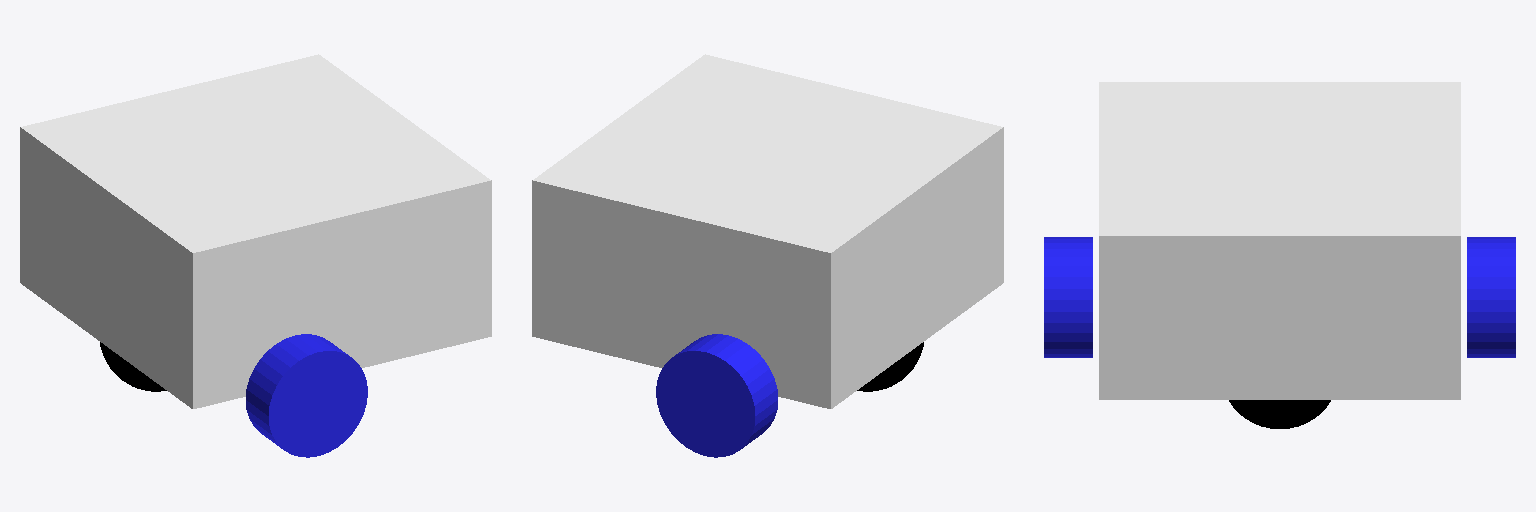
URDF robot description (robot):
<?xml version="1.0" ?>
<!-- =================================================================================== -->
<!-- |    This document was autogenerated by xacro from robot.urdf.xacro               | -->
<!-- |    EDITING THIS FILE BY HAND IS NOT RECOMMENDED                                 | -->
<!-- =================================================================================== -->
<robot name="robot">
  <material name="white">
    <color rgba="1 1 1 1"/>
  </material>
  <material name="orange">
    <color rgba="1 0.3 0.1 1"/>
  </material>
  <material name="blue">
    <color rgba="0.2 0.2 1 1"/>
  </material>
  <material name="black">
    <color rgba="0 0 0 1"/>
  </material>
  <!-- BASE LINK -->
  <link name="base_link"/>
  <!-- CHASSIS LINK -->
  <joint name="chassis_joint" type="fixed">
    <parent link="base_link"/>
    <child link="chassis"/>
    <origin xyz="-0.1 0 0"/>
  </joint>
  <link name="chassis">
    <visual>
      <origin xyz="0.15 0 0.075"/>
      <geometry>
        <box size="0.3 0.3 0.15"/>
      </geometry>
      <material name="white"/>
    </visual>
    <collision>
      <origin xyz="0.15 0 0.075"/>
      <geometry>
        <box size="0.3 0.3 0.15"/>
      </geometry>
    </collision>
    <inertial>
      <origin rpy="0 0 0" xyz="0.15 0 0.075"/>
      <mass value="0.5"/>
      <inertia ixx="0.004687499999999999" ixy="0.0" ixz="0.0" iyy="0.004687499999999999" iyz="0.0" izz="0.0075"/>
    </inertial>
  </link>
  <gazebo reference="chassis">
    <material>Gazebo/White</material>
  </gazebo>
  <!-- LEFT WHEEL LINK -->
  <joint name="left_wheel_joint" type="continuous">
    <parent link="base_link"/>
    <child link="left_wheel"/>
    <origin rpy="-1.5707963267948966 0 0" xyz="0 0.175 0"/>
    <axis xyz="0 0 1"/>
  </joint>
  <link name="left_wheel">
    <visual>
      <geometry>
        <cylinder length="0.04" radius="0.05"/>
      </geometry>
      <material name="blue"/>
    </visual>
    <collision>
      <geometry>
        <cylinder length="0.04" radius="0.05"/>
      </geometry>
    </collision>
    <inertial>
      <origin rpy="0 0 0" xyz="0 0 0"/>
      <mass value="0.1"/>
      <inertia ixx="7.583333333333335e-05" ixy="0.0" ixz="0.0" iyy="7.583333333333335e-05" iyz="0.0" izz="0.00012500000000000003"/>
    </inertial>
  </link>
  <gazebo reference="left_wheel">
    <material>Gazebo/Blue</material>
  </gazebo>
  <!-- RIGHT WHEEL LINK -->
  <joint name="right_wheel_joint" type="continuous">
    <parent link="base_link"/>
    <child link="right_wheel"/>
    <origin rpy="1.5707963267948966 0 0" xyz="0 -0.175 0"/>
    <axis xyz="0 0 -1"/>
  </joint>
  <link name="right_wheel">
    <visual>
      <geometry>
        <cylinder length="0.04" radius="0.05"/>
      </geometry>
      <material name="blue"/>
    </visual>
    <collision>
      <geometry>
        <cylinder length="0.04" radius="0.05"/>
      </geometry>
    </collision>
    <inertial>
      <origin rpy="0 0 0" xyz="0 0 0"/>
      <mass value="0.1"/>
      <inertia ixx="7.583333333333335e-05" ixy="0.0" ixz="0.0" iyy="7.583333333333335e-05" iyz="0.0" izz="0.00012500000000000003"/>
    </inertial>
  </link>
  <gazebo reference="right_wheel">
    <material>Gazebo/Blue</material>
  </gazebo>
  <!-- CASTER WHEEL FRONT -->
  <joint name="caster_wheel_joint" type="fixed">
    <parent link="chassis"/>
    <child link="caster_wheel"/>
    <origin xyz="0.24 0 0"/>
  </joint>
  <link name="caster_wheel">
    <visual>
      <geometry>
        <sphere radius="0.05"/>
      </geometry>
      <material name="black"/>
    </visual>
    <collision>
      <geometry>
        <sphere radius="0.05"/>
      </geometry>
    </collision>
    <inertial>
      <origin rpy="0 0 0" xyz="0 0 0"/>
      <mass value="0.1"/>
      <inertia ixx="0.00010000000000000005" ixy="0.0" ixz="0.0" iyy="0.00010000000000000005" iyz="0.0" izz="0.00010000000000000005"/>
    </inertial>
  </link>
  <gazebo reference="caster_wheel">
    <material>Gazebo/Black</material>
    <mu1 value="0.001"/>
    <mu2 value="0.001"/>
  </gazebo>
  <!-- CASTER WHEEL BACK -->
  <joint name="back_caster_wheel_joint" type="fixed">
    <parent link="chassis"/>
    <child link="back_caster_wheel"/>
    <origin xyz="0.05 0 0"/>
  </joint>
  <link name="back_caster_wheel">
    <visual>
      <geometry>
        <sphere radius="0.05"/>
      </geometry>
      <material name="black"/>
    </visual>
    <collision>
      <geometry>
        <sphere radius="0.05"/>
      </geometry>
    </collision>
    <inertial>
      <origin rpy="0 0 0" xyz="0 0 0"/>
      <mass value="0.1"/>
      <inertia ixx="0.00010000000000000005" ixy="0.0" ixz="0.0" iyy="0.00010000000000000005" iyz="0.0" izz="0.00010000000000000005"/>
    </inertial>
  </link>
  <gazebo reference="back_caster_wheel">
    <material>Gazebo/Black</material>
    <mu1 value="0.001"/>
    <mu2 value="0.001"/>
  </gazebo>
  <!-- ARM BASE -->
  <joint name="arm_base_joint" type="continuous">
    <axis xyz="0 0 1"/>
    <parent link="base_link"/>
    <child link="arm_base"/>
    <origin rpy="0 0 0" xyz="0.0 0.0 0.18"/>
  </joint>
  <link name="arm_base">
    <inertial>
      <origin rpy="0 0 0" xyz="0 0 0"/>
      <mass value="1.6004"/>
      <inertia ixx="0.00552196561445819" ixy="7.9550614501301E-10" ixz="-1.34378458924839E-09" iyy="0.00352397447953875" iyz="-1.10071809773382E-08" izz="0.00553739792746489"/>
    </inertial>
    <visual>
      <origin rpy="0 0 0" xyz="0 0 0"/>
      <geometry>
        <mesh filename="file://[local-path]/Desktop/projects/SmartRobotics_Project/controller/install/robot/share/robot/description/meshes/arm_base.stl"/>
      </geometry>
      <material name="">
        <color rgba="0.79216 0.81961 0.93333 1"/>
      </material>
    </visual>
    <collision>
      <origin rpy="0 0 0" xyz="0 0 0"/>
      <geometry>
        <mesh filename="file://[local-path]/Desktop/projects/SmartRobotics_Project/controller/install/robot/share/robot/description/meshes/arm_base.stl"/>
      </geometry>
    </collision>
  </link>
  <!-- BICEP -->
  <!-- <joint name="shoulder_joint" type="continuous">
      <axis xyz="0 1 0"/>
      <parent link="arm_base"/>
      <child link="bicep"/>
      <origin rpy="0 0 1.5708" xyz="-0.05166 0.0 0.20271"/>
   </joint>
   <link name="bicep">
      <inertial>
         <origin xyz="0.12821 3.5589E-06 0.052492" rpy="0 0 0" />
         <mass value="1.1198" />
         <inertia
            ixx="0.0012474"
            ixy="-5.4004E-07"
            ixz="-0.0013148"
            iyy="0.0072923"
            iyz="-1.8586E-07"
            izz="0.0068178" />
      </inertial>
      <visual>
         <origin xyz="0 0 0" rpy="0 -1.5708 0" />
         <geometry>
            <mesh filename="file://$(find robot)/description/meshes/bicep.stl" />
         </geometry>
         <material name=""> 
            <color rgba="0.79216 0.81961 0.93333 1" />
         </material>
      </visual>
      <collision>
         <origin xyz="0 0 0" rpy="0 -1.5708 0" />
         <geometry>
            <mesh filename="file://$(find robot)/description/meshes/bicep.stl" />
         </geometry>
      </collision>
   </link> -->
  <!-- TOP WRIST -->
  <!-- <joint name="top_wrist_joint" type="continuous">
      <axis xyz="0 1 0"/>
      <parent link="elbow"/>
      <child link="top_wrist"/>
      <origin rpy="0 0 0" xyz="0.0 0 0.20994"/>
   </joint>
   <link name="top_wrist">
      <inertial>
         <origin xyz="-9.1053E-08 -0.069257 -1.86629999995759E-07" rpy="0 0 0" />
         <mass value="0.27721" />
         <inertia
            ixx="0.00104290750143942"
            ixy="4.37155302268076E-09"
            ixz="-2.45049603914627E-09"
            iyy="0.000380518373895034"
            iyz="-7.56009835172156E-09"
            izz="0.00106006525067445" />
      </inertial>
      <visual>
         <origin xyz="0 0 0.13522" rpy="3.14 0 1.5708" />
         <geometry>
            <mesh filename="file://$(find robot)/description/meshes/wrist.stl" />
         </geometry>
         <material name="">
            <color rgba="0.79216 0.81961 0.93333 1" />
         </material>
      </visual>
      <collision>
         <origin xyz="0 0 0.13522" rpy="3.14 0 1.5708" />
         <geometry>
            <mesh filename="file://$(find robot)/description/meshes/wrist.stl" />
         </geometry>
      </collision>
   </link> -->
  <!-- BOTTON WRIST -->
  <!-- <joint name="bottom_wrist_joint" type="continuous">
      <axis xyz="0 1 0"/>
      <parent link="bicep"/>
      <child link="bottom_wrist"/>
      <origin rpy="0 0 0" xyz="0.0 -0.05194 0.269"/>
   </joint>
   <link name="bottom_wrist">
      <inertial>
         <origin xyz="-9.1053E-08 -0.069257 -1.86629999995759E-07" rpy="0 0 0" />
         <mass value="0.27721" />
         <inertia
            ixx="0.00104290750143942"
            ixy="4.37155302268076E-09"
            ixz="-2.45049603914627E-09"
            iyy="0.000380518373895034"
            iyz="-7.56009835172156E-09"
            izz="0.00106006525067445" />
      </inertial>
      <visual>
         <origin xyz="0 0 0.13522" rpy="3.14 0 1.5708" />
         <geometry>
            <mesh filename="file://$(find robot)/description/meshes/wrist.stl" />
         </geometry>
         <material name="">
         <color rgba="0.79216 0.81961 0.93333 1" />
      </material>
    </visual>
      <collision>
         <origin xyz="0 0 0.13522" rpy="3.14 0 1.5708" />
         <geometry>
            <mesh filename="file://$(find robot)/description/meshes/wrist.stl" />
         </geometry>
      </collision>
   </link> -->
  <!-- ELBOW -->
  <!-- <joint name="elbow_joint" type="continuous">
      <axis xyz="0 0 1"/>
      <parent link="bottom_wrist"/>
      <child link="elbow"/>
      <origin rpy="0 0 0" xyz="0.0 0 0.13522"/>
   </joint>
  <link name="elbow">
      <inertial>
         <origin xyz="-0.11109 1.1476E-08 0.046469" rpy="0 0 0" />
         <mass value="0.84845" />
         <inertia
            ixx="0.00079656"
            ixy="-7.8011E-10"
            ixz="0.00053616"
            iyy="0.003576"
            iyz="4.6326E-10"
            izz="0.0033698" />
      </inertial>
      <visual>
         <origin xyz="0.0 0.05163 0.20994" rpy="0 -1.5708 0" />
         <geometry>
            <mesh filename="file://$(find robot)/description/meshes/elbow.stl" />
         </geometry>
         <material name="">
            <color rgba="0.79216 0.81961 0.93333 1" />
         </material>
      </visual>
      <collision>
         <origin xyz="0.0 0.05163 0.20994" rpy="0 -1.5708 0" />
         <geometry>
            <mesh filename="file://$(find robot)/description/meshes/elbow.stl" />
         </geometry>
      </collision>
  </link> -->
  <!-- TRANSMISSIONS -->
  <transmission name="arm_base_trans" type="SimpleTransmission">
    <type>transmission_interface/SimpleTransmission</type>
    <actuator name="arm_base_motor">
      <hardwareInterface>hardware_interface/PositionJointInterface</hardwareInterface>
      <mechanicalReduction>1</mechanicalReduction>
    </actuator>
    <joint name="arm_base_joint">
      <hardwareInterface>hardware_interface/PositionJointInterface</hardwareInterface>
    </joint>
  </transmission>
  <!-- <transmission name="shoulder_trans" type="SimpleTransmission">
      <type>transmission_interface/SimpleTransmission</type>
      <actuator name="shoulder_motor">
         <hardwareInterface>hardware_interface/PositionJointInterface</hardwareInterface>
         <mechanicalReduction>1</mechanicalReduction>
      </actuator>
      <joint name="shoulder_joint">
         <hardwareInterface>hardware_interface/PositionJointInterface</hardwareInterface>
      </joint>
   </transmission>

   <transmission name="bottom_wrist_trans" type="SimpleTransmission">
      <type>transmission_interface/SimpleTransmission</type>
      <actuator name="bottom_wrist_motor">
         <hardwareInterface>hardware_interface/PositionJointInterface</hardwareInterface>
         <mechanicalReduction>1</mechanicalReduction>
      </actuator>
      <joint name="bottom_wrist_joint">
         <hardwareInterface>hardware_interface/PositionJointInterface</hardwareInterface>
      </joint>
   </transmission>

   <transmission name="elbow_trans" type="SimpleTransmission">
      <type>transmission_interface/SimpleTransmission</type>
      <actuator name="elbow_motor">
         <hardwareInterface>hardware_interface/PositionJointInterface</hardwareInterface>
         <mechanicalReduction>1</mechanicalReduction>
      </actuator>
      <joint name="elbow_joint">
         <hardwareInterface>hardware_interface/PositionJointInterface</hardwareInterface>
      </joint>
   </transmission>

   <transmission name="top_wrist_trans" type="SimpleTransmission">
      <type>transmission_interface/SimpleTransmission</type>
      <actuator name="top_wrist_motor">
         <hardwareInterface>hardware_interface/PositionJointInterface</hardwareInterface>
         <mechanicalReduction>1</mechanicalReduction>
      </actuator>
      <joint name="top_wrist_joint">
         <hardwareInterface>hardware_interface/PositionJointInterface</hardwareInterface>
      </joint>
   </transmission> -->
  <gazebo>
    <plugin filename="libgazebo_ros_diff_drive.so" name="diff_drive">
      <!-- Wheel Information -->
      <left_joint>left_wheel_joint</left_joint>
      <right_joint>right_wheel_joint</right_joint>
      <wheel_separation>0.35</wheel_separation>
      <wheel_diameter>0.1</wheel_diameter>
      <!-- Limits -->
      <max_wheel_torque>200</max_wheel_torque>
      <max_wheel_acceleration>10.0</max_wheel_acceleration>
      <!-- Output -->
      <odometry_frame>odom</odometry_frame>
      <robot_base_frame>base_link</robot_base_frame>
      <publish_odom>true</publish_odom>
      <publish_odom_tf>true</publish_odom_tf>
      <publish_wheel_tf>true</publish_wheel_tf>
    </plugin>
  </gazebo>
  <ros2_control name="GazeboSystem" type="system">
    <hardware>
      <plugin>gazebo_ros2_control/GazeboSystem</plugin>
    </hardware>
    <joint name="arm_base_joint">
      <command_interface name="position">
        <param name="min">-1000</param>
        <param name="max">1000</param>
      </command_interface>
      <state_interface name="position"/>
      <state_interface name="velocity"/>
      <state_interface name="effort"/>
    </joint>
  </ros2_control>
  <!-- <gazebo>
        <plugin name="gazebo_ros_control" filename="libgazebo_ros_control.so">
            <robotNamespace>/robot</robotNamespace>
            <controlPeriod>0.001</controlPeriod>
            <legacyModeNS>false</legacyModeNS>
        </plugin>
    </gazebo> -->
  <gazebo>
    <plugin filename="libgazebo_ros2_control.so" name="gazebo_ros2_control">
      <!--<robot_param>robot_description</robot_param>
	    	<robot_namespace> box_bot</robot_namespace>
		<robot_param_node>robot_state_publisher</robot_param_node>-->
      <parameters>[local-path]/Desktop/projects/SmartRobotics_Project/controller/install/controller_system/share/controller_system/config/robot.yaml</parameters>
    </plugin>
  </gazebo>
  <!-- <gazebo>
        <plugin name="gazebo_ros_joint_state_publisher"
            filename="libgazebo_ros_joint_state_publisher.so">
            <update_rate>20</update_rate>
            <joint_name>slider_joint</joint_name>
            <joint_name>arm_joint</joint_name>
        </plugin>
    </gazebo> -->
  <!-- <gazebo>
        <plugin name="joint_state_publisher" filename="libgazebo_ros_joint_state_publisher.so">
            <update_rate>20</update_rate>
            <joint_name>arm_base_joint</joint_name>
            <joint_name>shoulder_joint</joint_name>
            <joint_name>bottom_wrist_joint</joint_name>
            <joint_name>elbow_joint</joint_name>
            <joint_name>top_wrist_joint</joint_name>
        </plugin>
    </gazebo> -->
</robot>

--- Render facts (derived) ---
Views: 3 orthographic renders of the robot side by side, from view 1: azimuth 30°, elevation 25°; view 2: azimuth 150°, elevation 25°; view 3: azimuth 270°, elevation 25°.
Model robot with 7 links and 6 joints (3 continuous, 3 fixed), rooted at base_link, posed every joint at zero.
Links seen in each view (by area): view 1: chassis, right_wheel, back_caster_wheel; view 2: chassis, left_wheel, back_caster_wheel; view 3: chassis, left_wheel, right_wheel, caster_wheel.
Boxes of the visible links, <box> form: chassis: <box>20,54,491,408</box>; right_wheel: <box>246,334,367,457</box>; back_caster_wheel: <box>100,342,166,391</box>; chassis: <box>532,54,1003,408</box>; left_wheel: <box>656,334,777,457</box>; back_caster_wheel: <box>857,342,923,391</box>; chassis: <box>1099,82,1460,399</box>; left_wheel: <box>1467,237,1515,357</box>; right_wheel: <box>1044,237,1092,357</box>; caster_wheel: <box>1229,400,1330,428</box>.
Size in the robot's own frame: 0.3 by 0.39 by 0.2 metres.
Geometry: only primitive shapes (box / cylinder / sphere) drawn; not drawn: 1 mesh visual (reference in a form the renderer does not follow).
